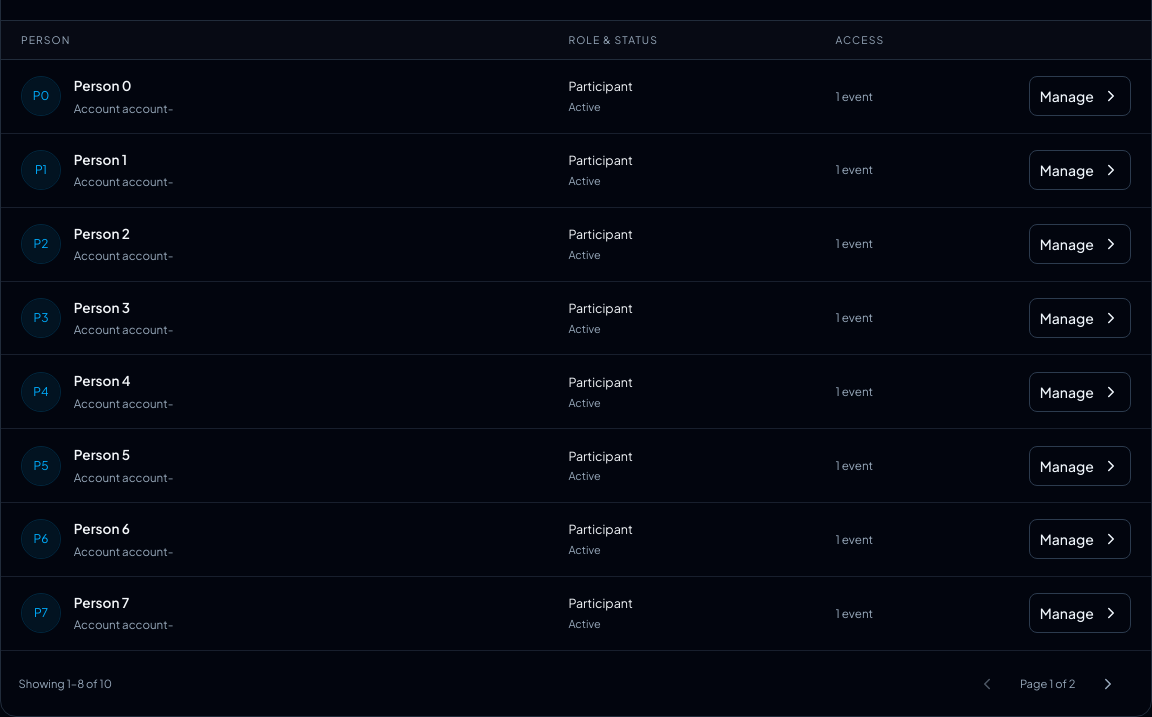
Test: admin people directory › paginates names and keeps all email addresses out of the directory
The width and height of the screenshot is (1152, 717).
(page scrolled)
Expected: the text "Showing 1–8 of 10" is shown, [19,675,112,692]
Expected: the text "@example.com" is not shown
Click the button named "Next people page" at (1108, 684), box [1083,664,1133,704]
(page scrolled)
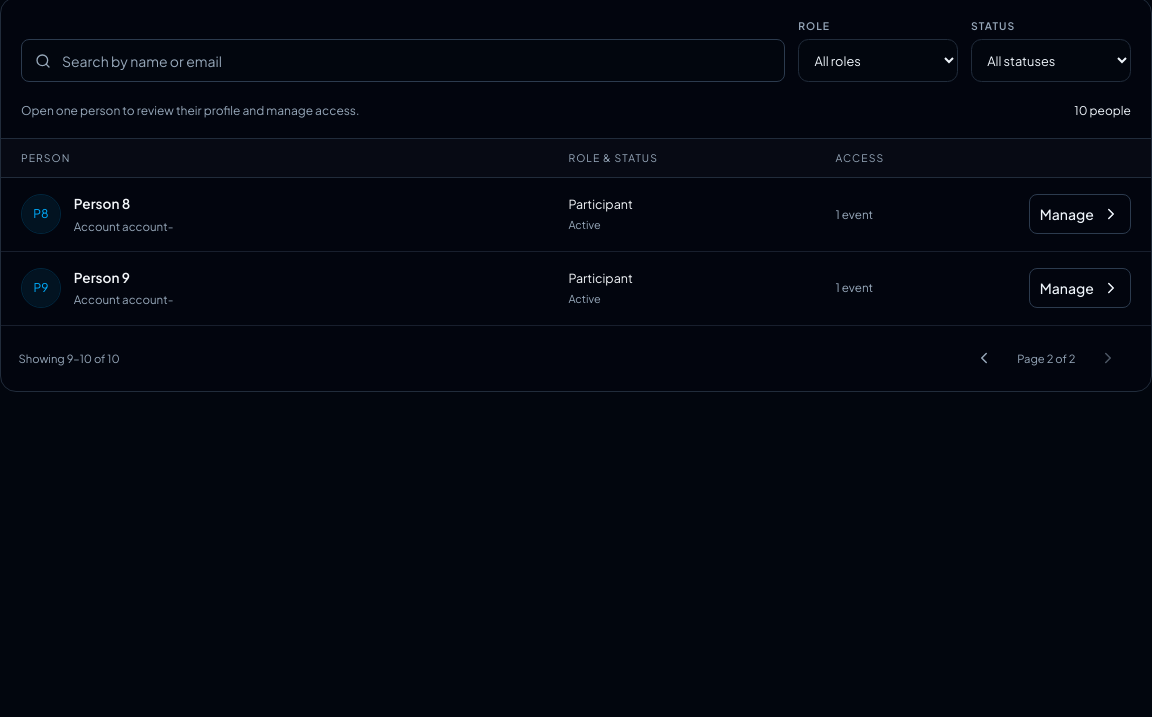
Now the number of buttons "Manage " is 2, box [1029,194,1131,234]; [1029,268,1131,308]
Now the heading "Person 8" is shown, box [74,195,130,212]
Now the text "Showing 9–10 of 10" is shown, box [19,350,120,367]
Type "person3@example.com" into the field named "Search people" at (403, 61), box [21,39,785,82]
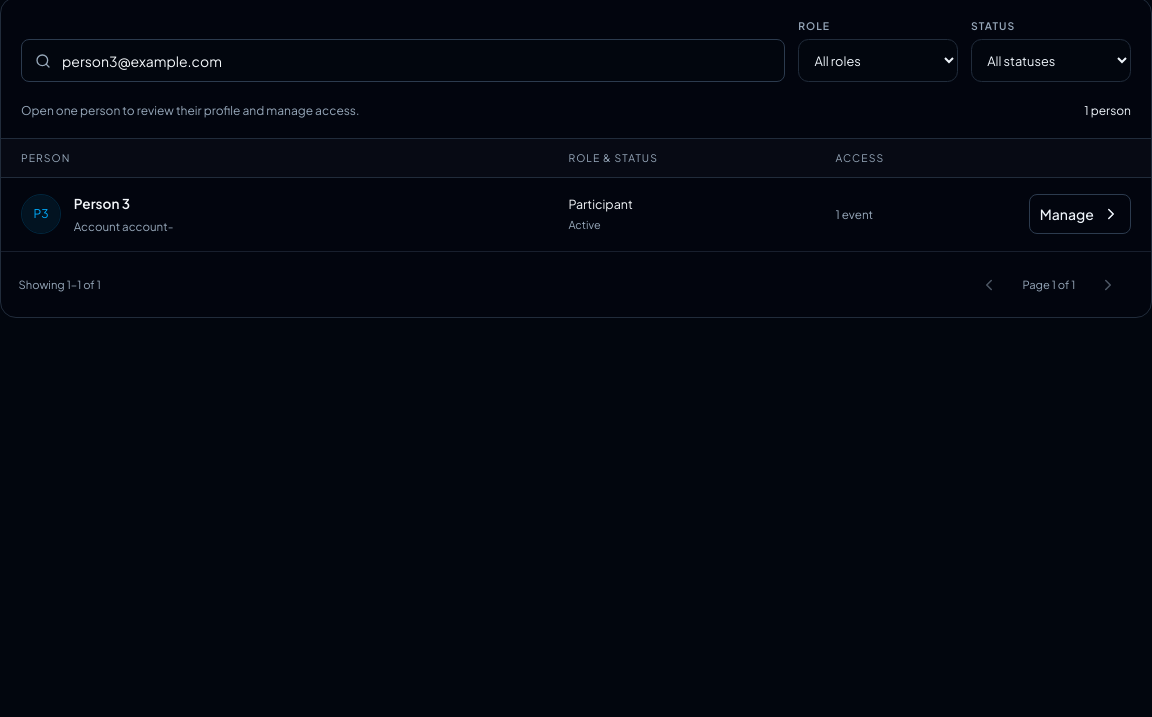
Expected: the button with aria-label "Manage Person 3" is shown, [1029,194,1131,234]
Now the text "Showing 1–1 of 1" is shown, box [19,276,101,293]
